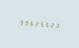five: (37, 19, 41, 28), (42, 20, 46, 28)
nine: (17, 18, 21, 26), (22, 18, 26, 26)
six: (27, 18, 31, 27)
three: (52, 21, 56, 29)
two: (47, 20, 51, 29), (32, 19, 36, 27)
